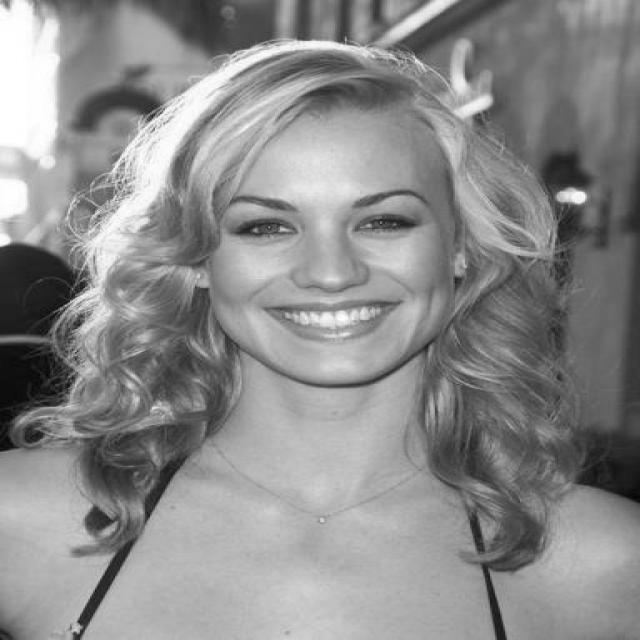real: (223, 166, 452, 384)
